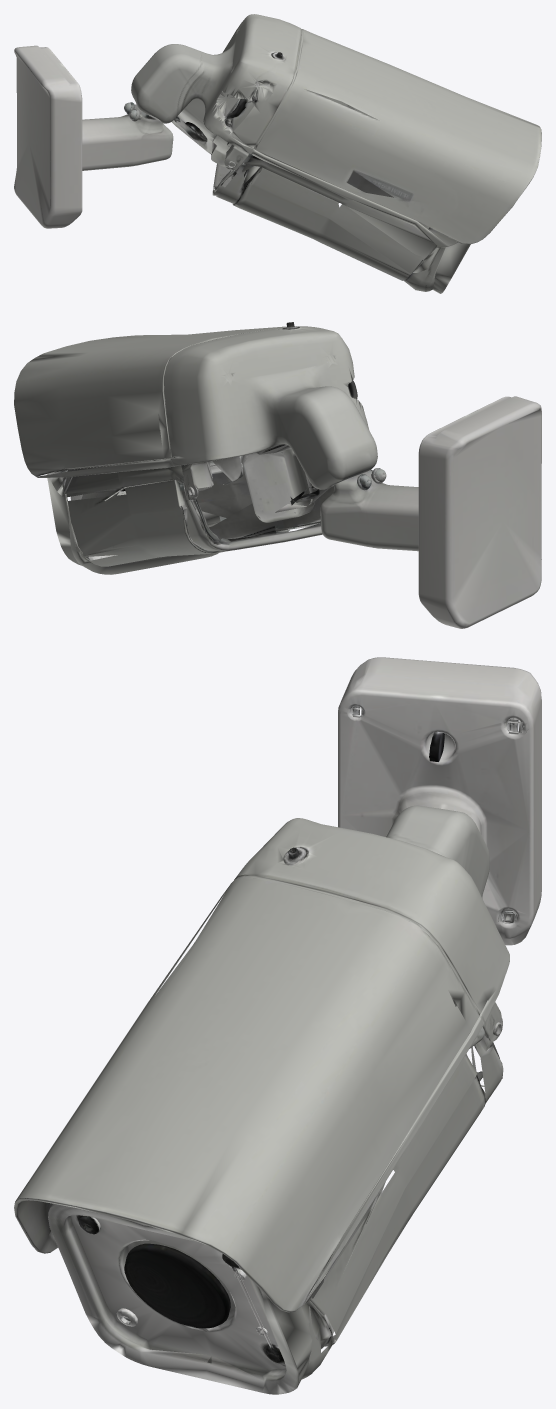
File: toonstudio_cctv.glb
3 views of the same model, one above another, from view 1: azimuth 30°, elevation 25°; view 2: azimuth 150°, elevation 25°; view 3: azimuth 270°, elevation 25° (orthographic). The views are drawn at different scales.
Parts seen in each view (by area): view 1: tripo_56c4f563_03f1_4e87_a2a7_6038c6ca0223; view 2: tripo_56c4f563_03f1_4e87_a2a7_6038c6ca0223; view 3: tripo_56c4f563_03f1_4e87_a2a7_6038c6ca0223.
Boxes of the visible parts, box(x1,y1,x2,y2) form: tripo_56c4f563_03f1_4e87_a2a7_6038c6ca0223: box(14, 14, 541, 293); tripo_56c4f563_03f1_4e87_a2a7_6038c6ca0223: box(14, 322, 541, 628); tripo_56c4f563_03f1_4e87_a2a7_6038c6ca0223: box(14, 657, 541, 1394).
Bounding box in the file's own units: 0.5 × 0.26 × 0.2914.
1 material, 1 textured.
